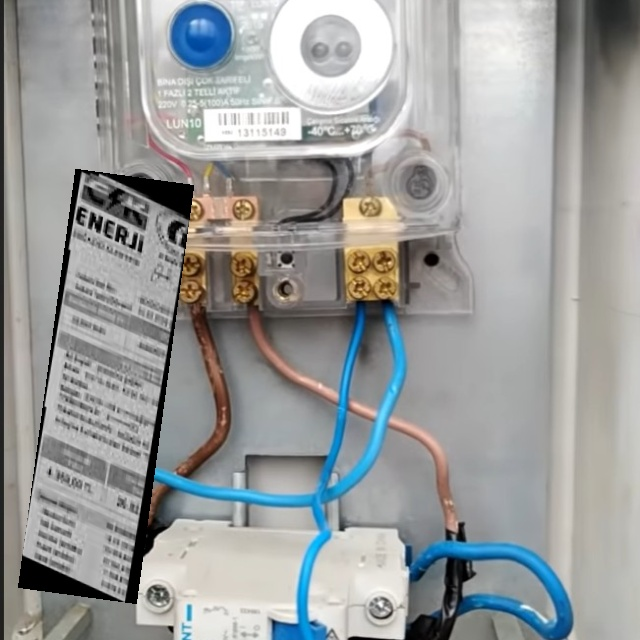electricity-bill: (18, 168, 194, 604)
